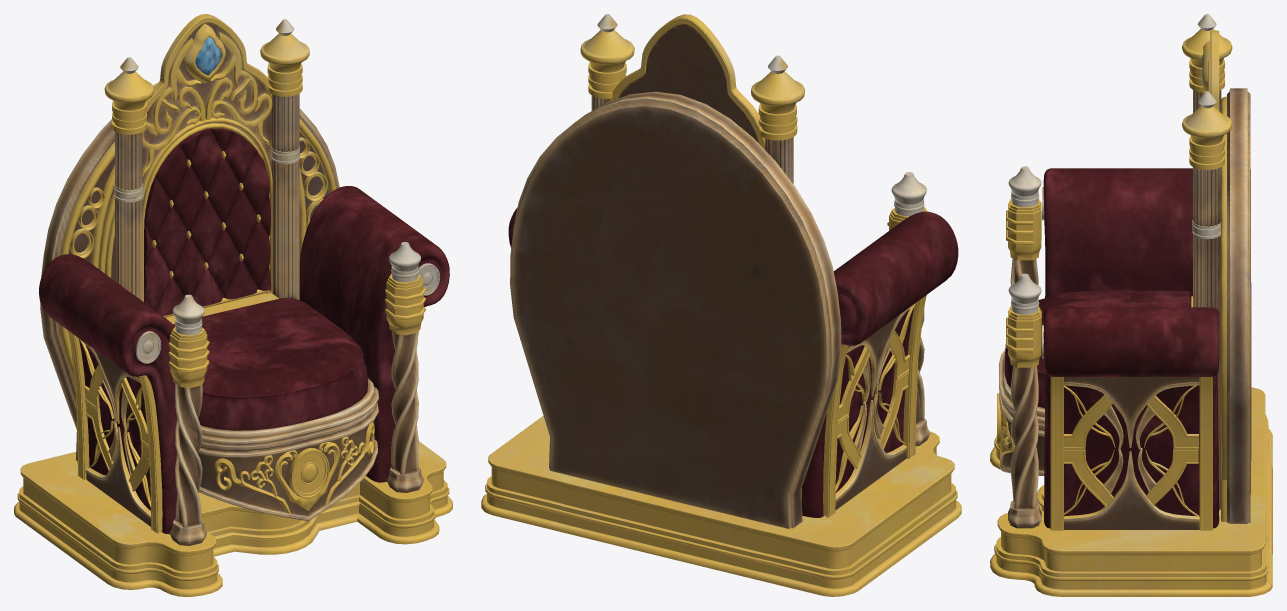
File: Throne.gltf
3 renders of one model, left to right at view 1: azimuth 30°, elevation 25°; view 2: azimuth 150°, elevation 25°; view 3: azimuth 270°, elevation 25°, orthographic. The views are drawn at different scales.
Visible parts, largest first — view 1: XI_ToG_Throne.Shape_XI_ToG_Throne_MAT_0.002; view 2: XI_ToG_Throne.Shape_XI_ToG_Throne_MAT_0.002; view 3: XI_ToG_Throne.Shape_XI_ToG_Throne_MAT_0.002.
Part boxes in pixels (bbox=[...]): XI_ToG_Throne.Shape_XI_ToG_Throne_MAT_0.002: bbox=[14, 14, 452, 596]; XI_ToG_Throne.Shape_XI_ToG_Throne_MAT_0.002: bbox=[481, 14, 961, 596]; XI_ToG_Throne.Shape_XI_ToG_Throne_MAT_0.002: bbox=[990, 14, 1272, 596].
Bounding box in the file's own units: 3.05 × 4.03 × 2.15.
Materials: 1 (1 with a texture image).
